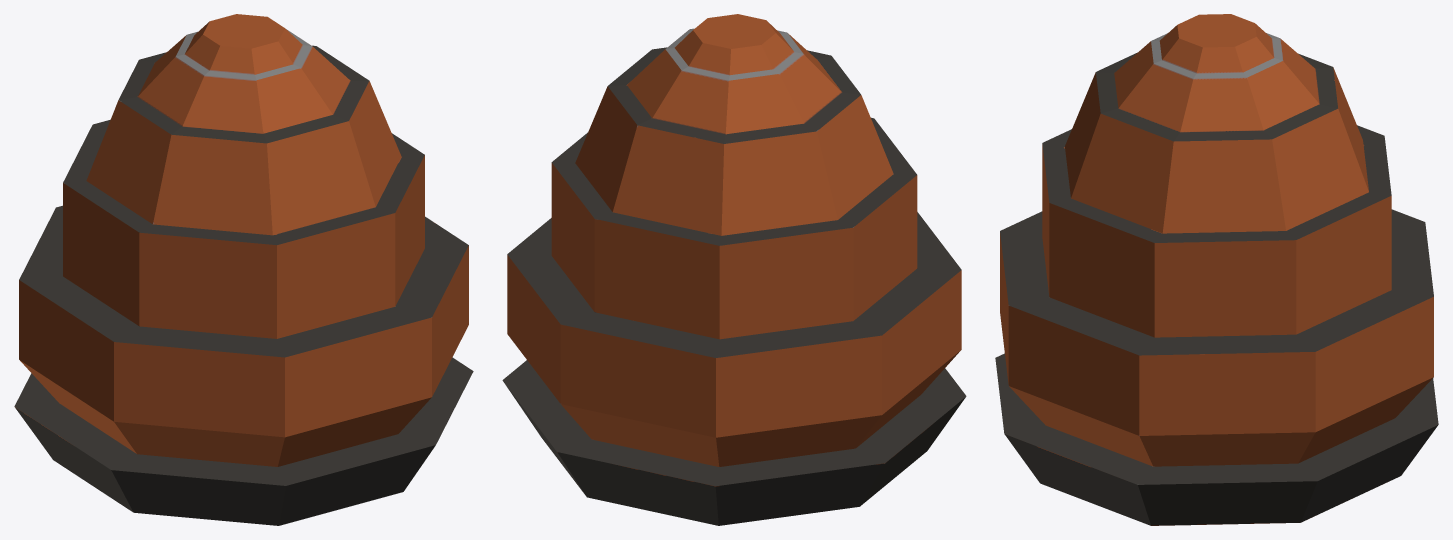
File: tower3.fbx
3 views of the same model, side by side, from view 1: azimuth 30°, elevation 25°; view 2: azimuth 150°, elevation 25°; view 3: azimuth 270°, elevation 25° (orthographic).
Parts seen in each view (by area): view 1: turret 3; view 2: turret 3; view 3: turret 3.
Part boxes in pixels (x1=…): turret 3: x1=14, y1=14, x2=473, y2=525; turret 3: x1=502, y1=14, x2=966, y2=525; turret 3: x1=995, y1=14, x2=1438, y2=525.
Bounding box in the file's own units: 1096 × 1139 × 1096.
1 material, 1 textured.
